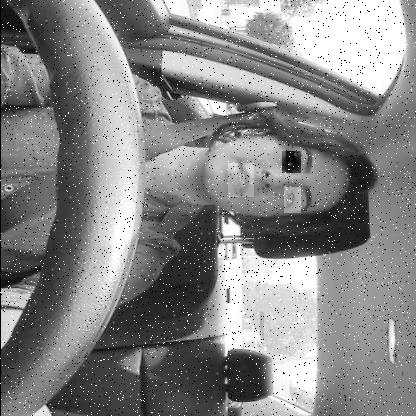seatbelt: (0, 108, 384, 236)
